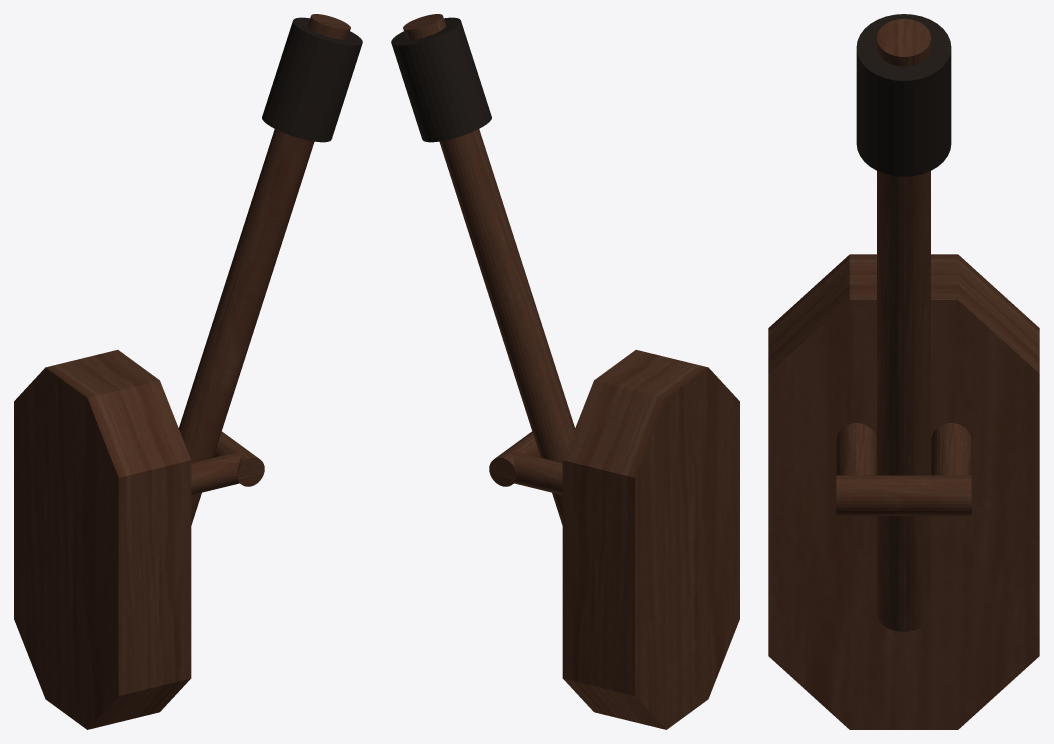
File: torch_m1.fbx
3 views of the same model, side by side, from view 1: azimuth 30°, elevation 25°; view 2: azimuth 150°, elevation 25°; view 3: azimuth 270°, elevation 25° (orthographic). The views are drawn at different scales.
Parts seen in each view (by area): view 1: Torch; view 2: Torch; view 3: Torch.
Boxes of the visible parts, left/top/right/bottom form: Torch: left=14, top=14, right=362, bottom=729; Torch: left=391, top=14, right=739, bottom=729; Torch: left=768, top=14, right=1039, bottom=729.
Bounding box in the file's own units: 0.4 × 0.6427 × 1.34.
